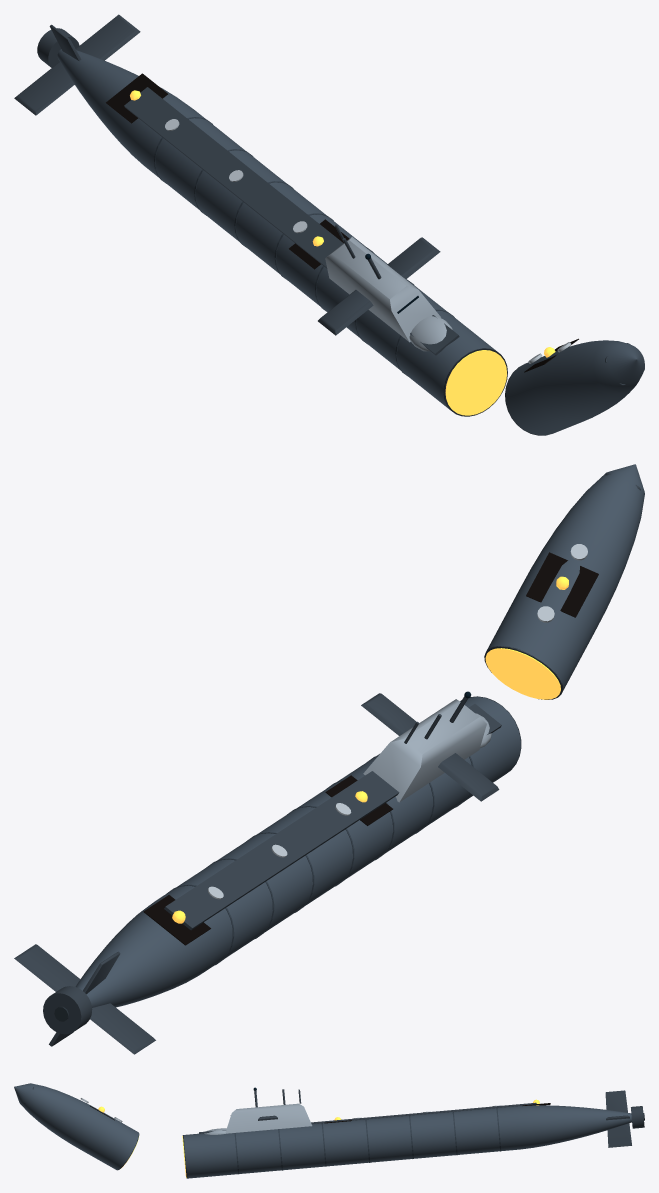
File: wreck_submarine.glb
3 views of the same model, one above another, from view 1: azimuth 30°, elevation 25°; view 2: azimuth 150°, elevation 25°; view 3: azimuth 270°, elevation 25° (orthographic). The views are drawn at different scales.
Visible parts, largest first — view 1: hull_main, hull_bow, casing, sail, hot_main, planes_stern_h, planes_sail_r, planes_sail_l, scorch_fire_0, sail_fairing, hull_tiles, propulsor_ring; view 2: hull_main, hull_bow, casing, sail, planes_stern_h, hot_bow, scorch_fire_2, propulsor_ring, planes_sail_r, planes_sail_l, scorch_fire_0, hull_tiles; view 3: hull_main, hull_bow, sail, planes_stern_v, casing, hull_tiles, propulsor_ring.
Part boxes in pixels (x1,y1,x2,y2): hull_main: (57, 49, 497, 409); hull_bow: (505, 340, 644, 435); casing: (124, 87, 459, 355); sail: (325, 237, 440, 342); hot_main: (445, 350, 506, 415); planes_stern_h: (14, 14, 140, 115); planes_sail_r: (318, 290, 373, 335); planes_sail_l: (387, 237, 440, 279); scorch_fire_0: (106, 73, 167, 123); sail_fairing: (409, 315, 452, 351); hull_tiles: (154, 117, 454, 375); propulsor_ring: (37, 28, 79, 67); hull_main: (75, 696, 520, 1007); hull_bow: (487, 464, 644, 692); casing: (164, 704, 501, 930); sail: (363, 699, 486, 802); planes_stern_h: (14, 944, 155, 1054); hot_bow: (485, 648, 560, 699); scorch_fire_2: (526, 552, 598, 617); propulsor_ring: (43, 986, 92, 1034); planes_sail_r: (438, 753, 499, 801); planes_sail_l: (361, 693, 416, 735); scorch_fire_0: (143, 895, 210, 945); hull_tiles: (168, 755, 473, 965); hull_main: (183, 1105, 631, 1178); hull_bow: (14, 1083, 138, 1170); sail: (225, 1103, 312, 1133); planes_stern_v: (605, 1090, 631, 1147); casing: (199, 1102, 536, 1133); hull_tiles: (234, 1108, 501, 1174); propulsor_ring: (631, 1106, 644, 1128).
Bounding box in the file's own units: 4.23 × 5.32 × 31.66.
